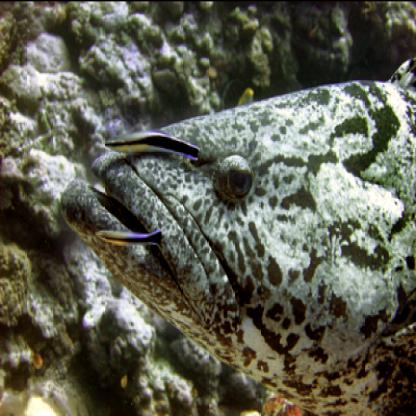Serranidae -Groupers-: (60, 57, 416, 415)
